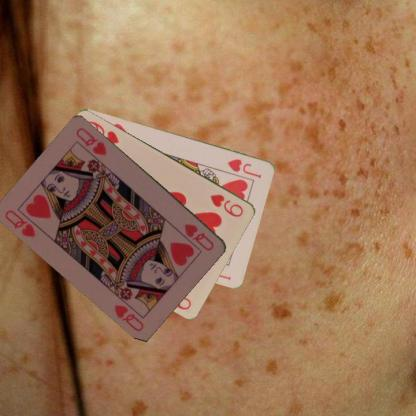9h: (207, 192, 245, 219)
Jh: (225, 156, 263, 180)
Qh: (2, 207, 37, 239), (181, 221, 216, 252)
